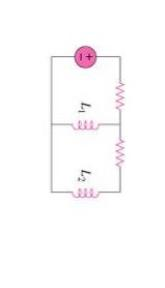resistor: (106, 132, 132, 171), (108, 73, 133, 108)
